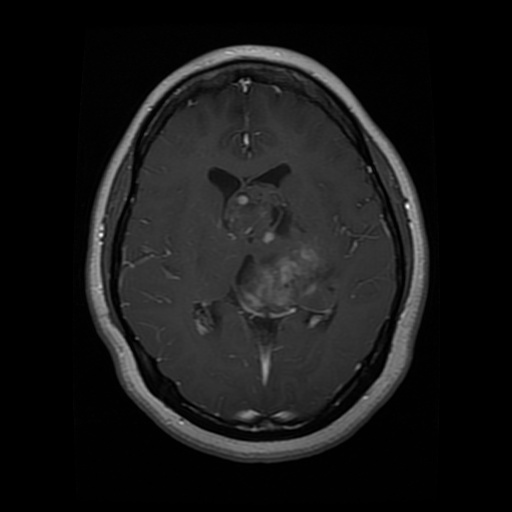glioma: (233, 233, 328, 320)
